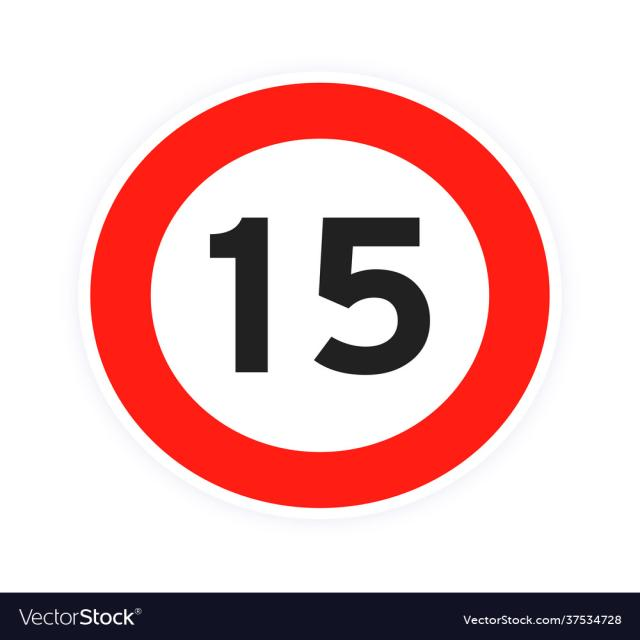SPEED_LIMIT_15: (74, 68, 574, 534)
